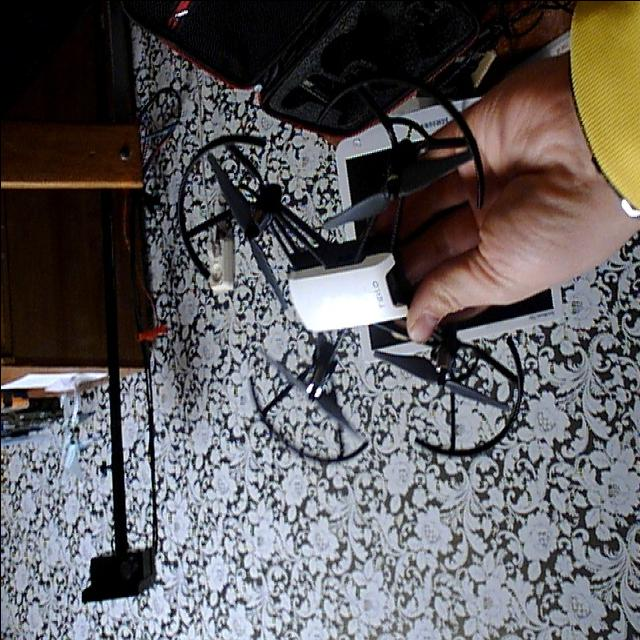drone: (163, 90, 532, 462)
